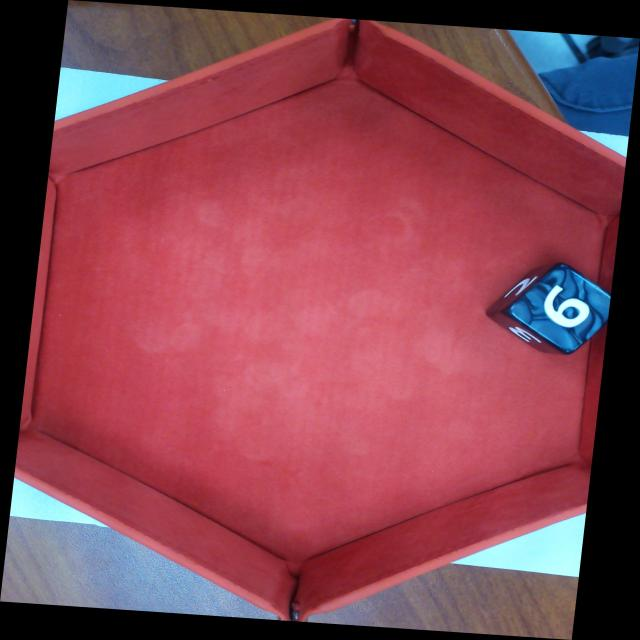dice: (502, 260, 628, 355)
